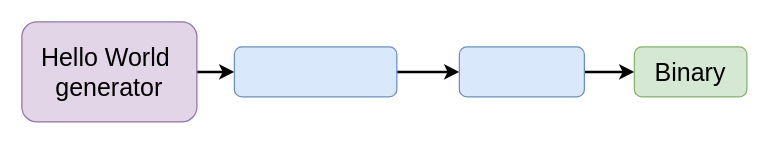
Some shapes in this 769 by 144 pixel diagram are drawn without their labels. Each missing label, with the box of its shape:
go build: (458, 46, 584, 97)
hw.go: (233, 46, 397, 97)
